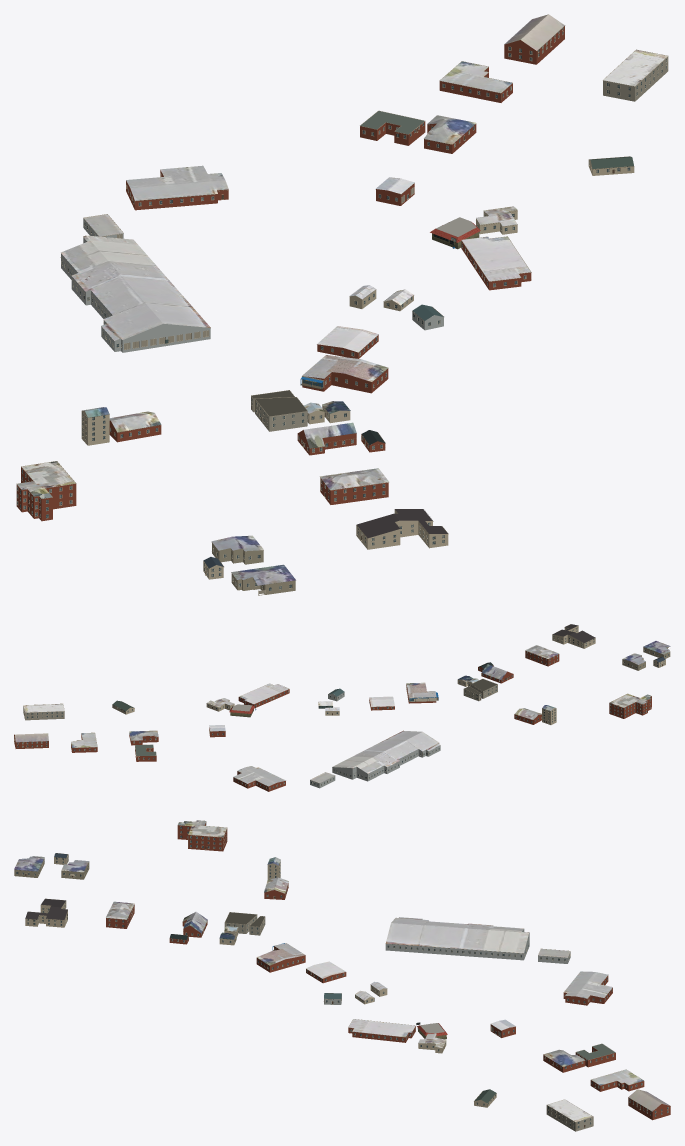
3 views of the same model, one above another, from view 1: azimuth 30°, elevation 25°; view 2: azimuth 150°, elevation 25°; view 3: azimuth 270°, elevation 25° (orthographic). The views are drawn at different scales.
Visible parts, largest first — view 1: 0_-2_292661203_2, 0_-2_292661018_0, 0_-2_292661253_3, 0_-2_292661268_5, 0_-2_1150516045_73, 0_-2_625344694_31, 0_-2_292661202_1; view 2: 0_-2_292661203_2, 0_-2_292661018_0, 0_-2_292661253_3, 0_-2_292661268_5, 0_-2_1150516045_73, 0_-2_292661202_1, 0_-2_625344694_31; view 3: 0_-2_292661203_2, 0_-2_292661018_0, 0_-2_292661253_3, 0_-2_292661268_5, 0_-2_1150516045_73.
Part boxes in pixels (<box>): 0_-2_292661203_2: <box>17,14,667,585</box>; 0_-2_292661018_0: <box>16,26,667,595</box>; 0_-2_292661253_3: <box>16,26,564,521</box>; 0_-2_292661268_5: <box>61,194,443,386</box>; 0_-2_1150516045_73: <box>251,56,668,431</box>; 0_-2_625344694_31: <box>212,543,295,594</box>; 0_-2_292661202_1: <box>300,217,480,388</box>; 0_-2_292661203_2: <box>15,641,670,786</box>; 0_-2_292661018_0: <box>14,624,670,789</box>; 0_-2_292661253_3: <box>14,651,651,791</box>; 0_-2_292661268_5: <box>310,692,440,788</box>; 0_-2_1150516045_73: <box>23,684,497,720</box>; 0_-2_292661202_1: <box>229,692,438,717</box>; 0_-2_625344694_31: <box>622,647,670,670</box>; 0_-2_292661203_2: <box>14,820,670,1121</box>; 0_-2_292661018_0: <box>15,820,668,1129</box>; 0_-2_292661253_3: <box>106,822,670,1120</box>; 0_-2_292661268_5: <box>324,920,570,1033</box>; 0_-2_1150516045_73: <box>224,915,593,1131</box>.
Size of the model in its own units: 517 by 26.2 by 493.
29 materials, 1 textured.
